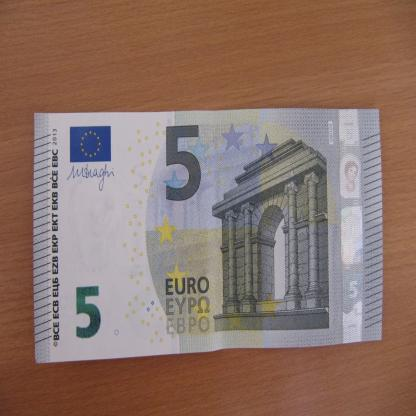billete: (30, 106, 385, 366)
